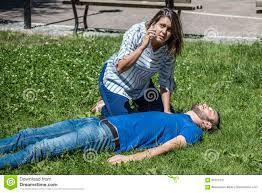bending: (98, 7, 179, 114)
down: (1, 100, 220, 171)
